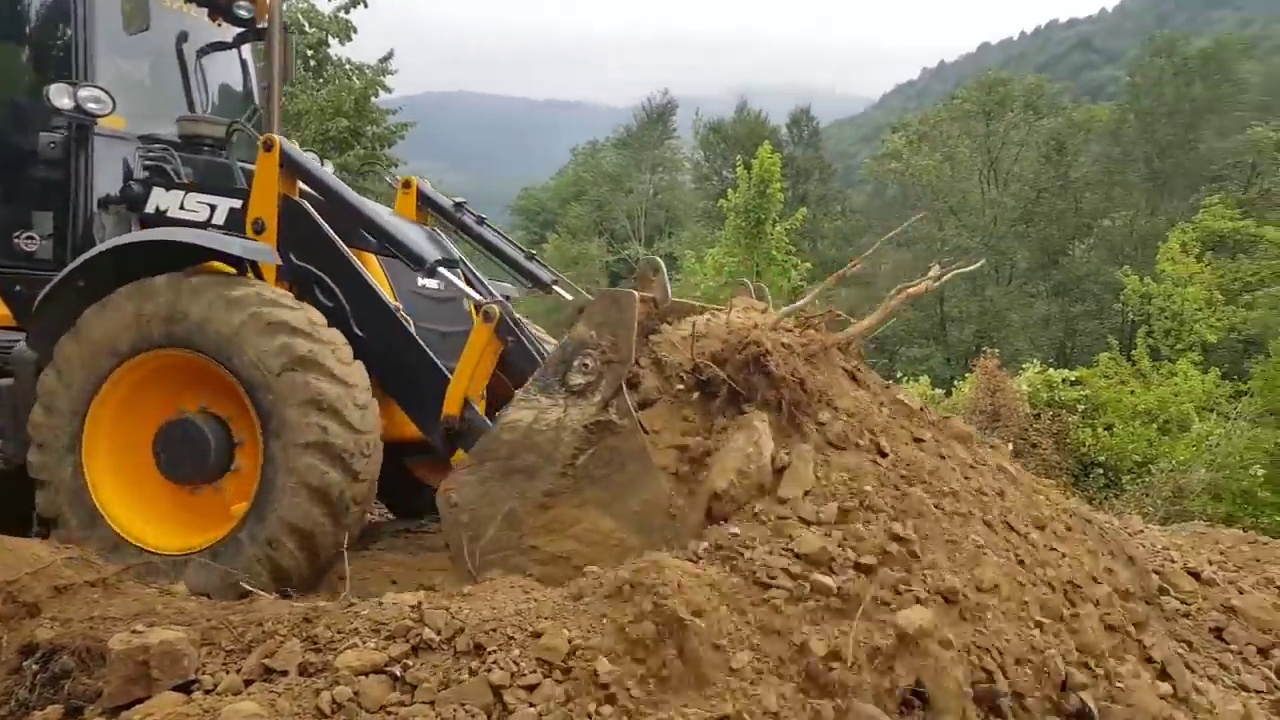wheel loader: (3, 2, 825, 610)
